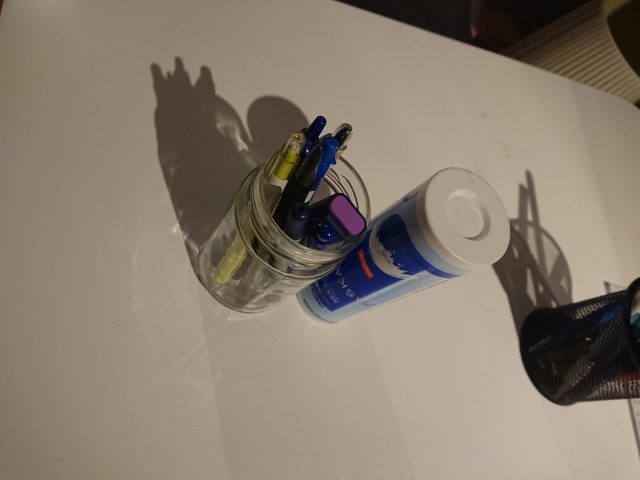Solana Pag Fine Sea Salt 250g: (291, 164, 513, 328)
